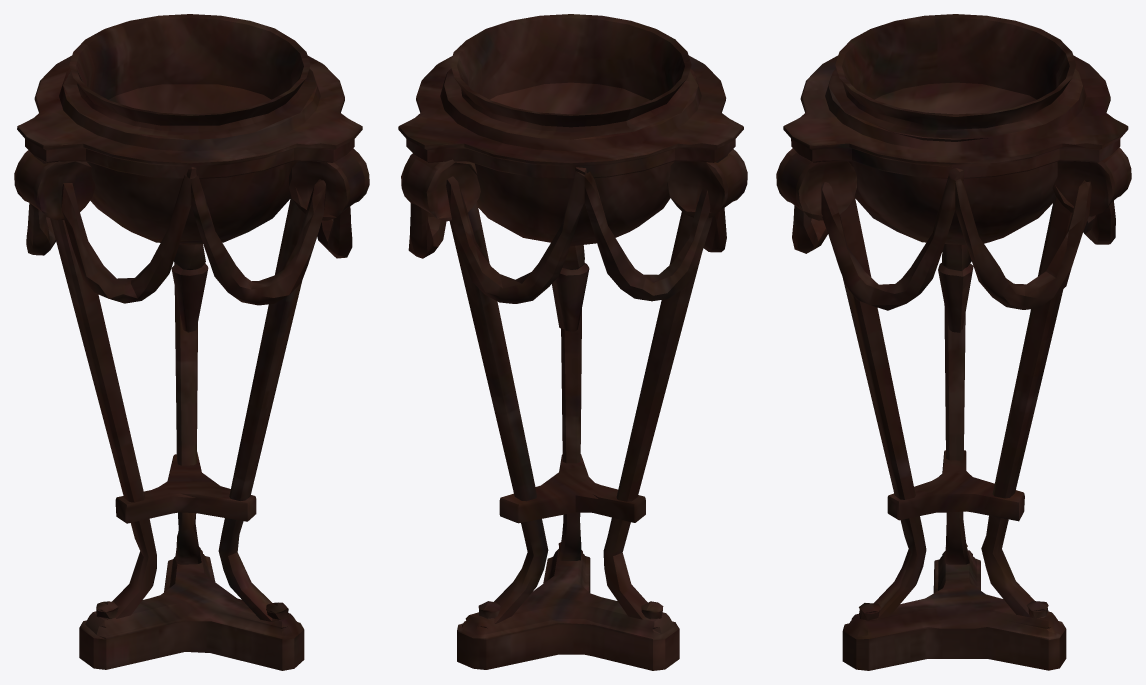
Rendered from plant-stand.glb.
The picture shows the model from 3 angles, left to right: view 1: azimuth 30°, elevation 25°; view 2: azimuth 150°, elevation 25°; view 3: azimuth 270°, elevation 25°; orthographic projection.
Parts seen in each view (by area): view 1: plant-stand; view 2: plant-stand; view 3: plant-stand.
Part boxes in pixels (left/top/right/bottom): plant-stand: left=14, top=14, right=369, bottom=670; plant-stand: left=398, top=14, right=747, bottom=670; plant-stand: left=776, top=14, right=1131, bottom=670.
Bounding box in the file's own units: 0.5595 × 1.02 × 0.5741.
1 material, 1 textured.
